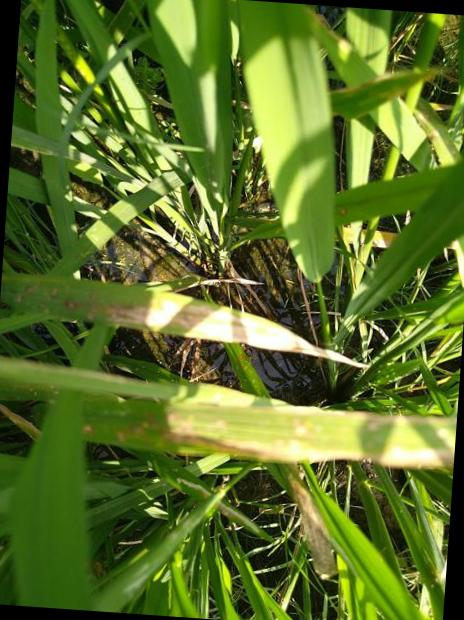Leaf Streak: (0, 273, 366, 369), (166, 403, 457, 470), (285, 467, 338, 583), (331, 67, 435, 120), (82, 420, 152, 442)
